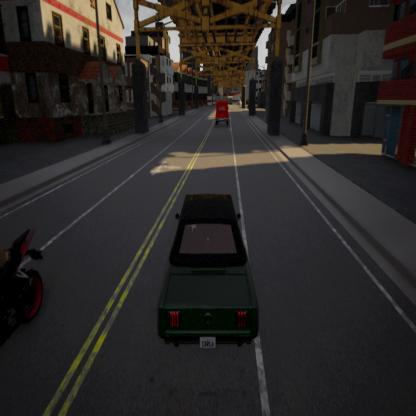Cars: (155, 192, 258, 353), (0, 228, 47, 353), (214, 97, 230, 129)
